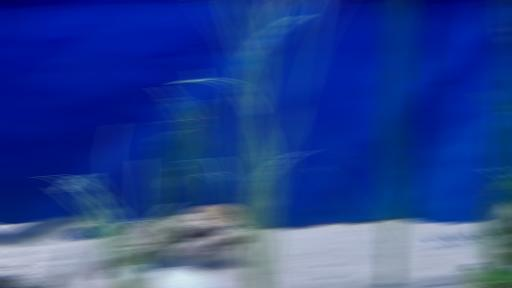Fish: (0, 215, 92, 246)
